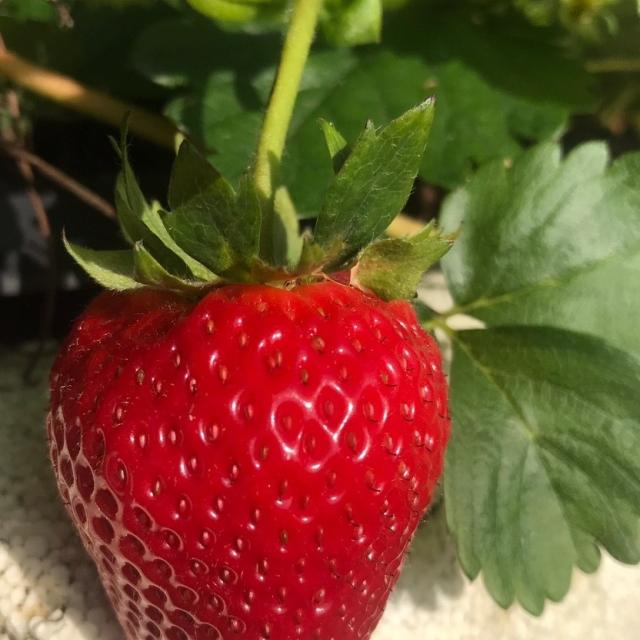strawberry: (18, 102, 476, 640)
